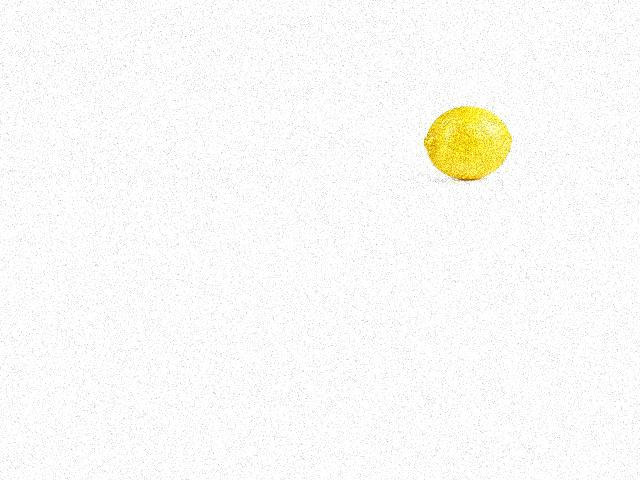lemon: (410, 104, 521, 181)
